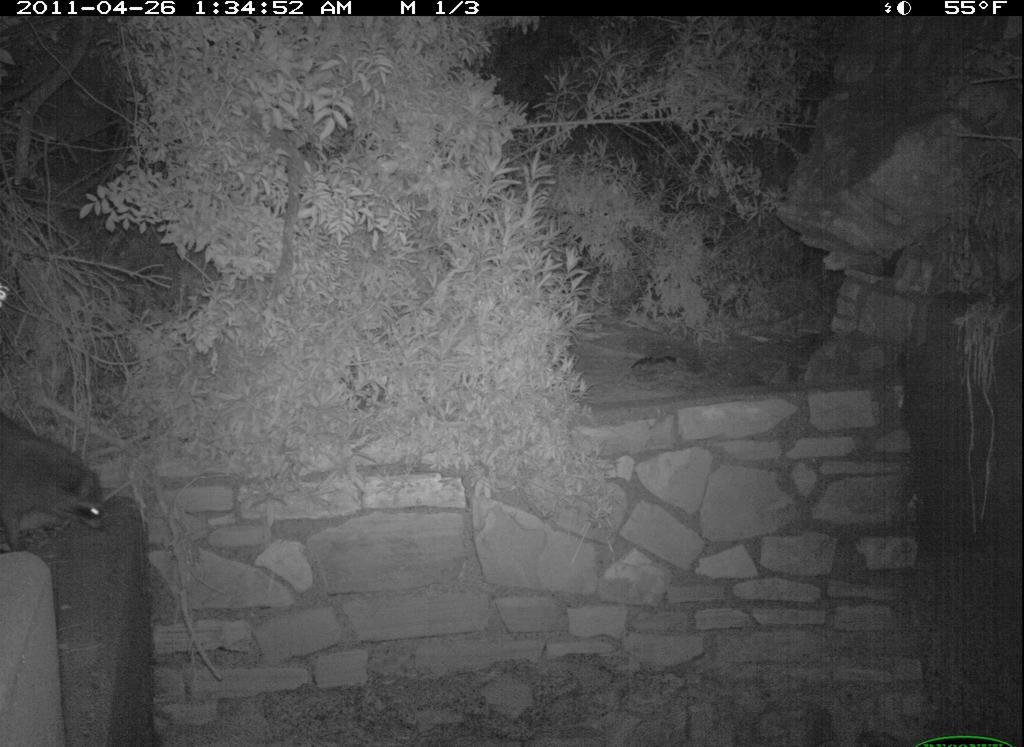raccoon: (2, 402, 117, 551)
